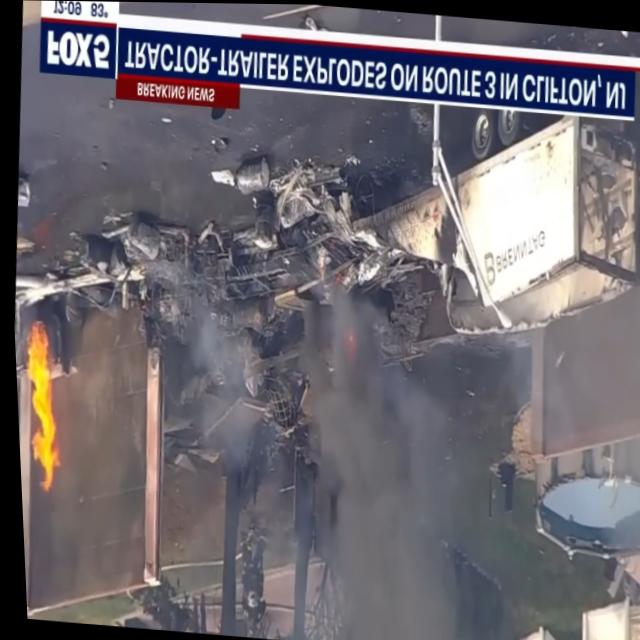Fire: (11, 315, 67, 499)
